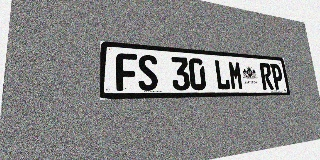0: (188, 58, 206, 90)
3: (171, 57, 190, 90)
F: (116, 53, 138, 91)
L: (214, 59, 231, 90)
M: (228, 60, 244, 90)
P: (270, 63, 284, 89)
R: (259, 63, 274, 90)
S: (138, 54, 158, 91)
